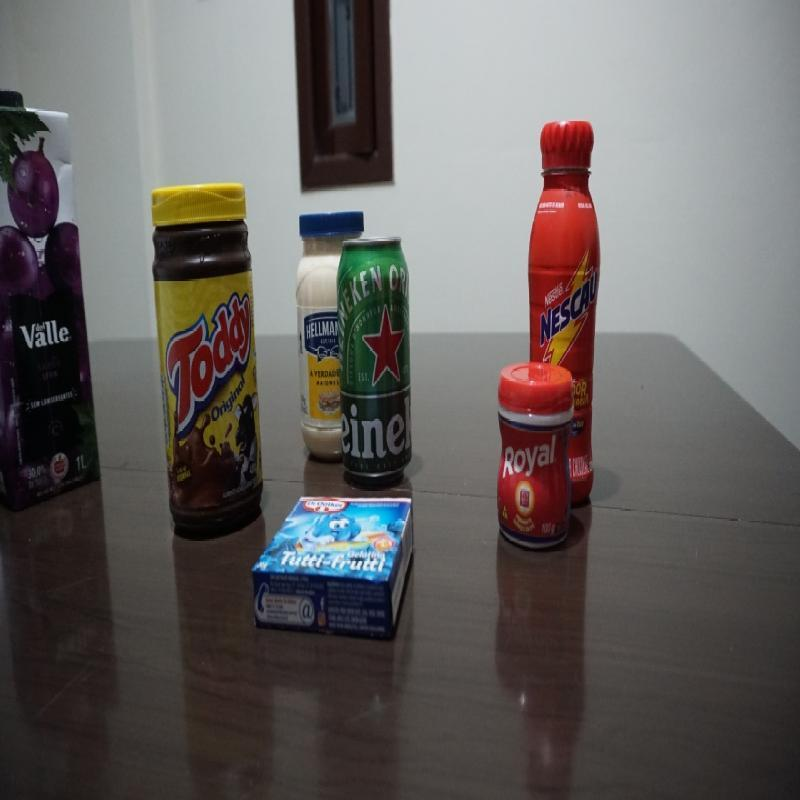Beer can: (340, 239, 414, 481)
Chocolate Milk: (532, 120, 592, 500)
Chocolate Powder: (142, 177, 267, 537)
Gelatine: (254, 487, 414, 654)
Mayonnaise: (293, 207, 362, 468)
Yeast: (492, 359, 572, 552)
